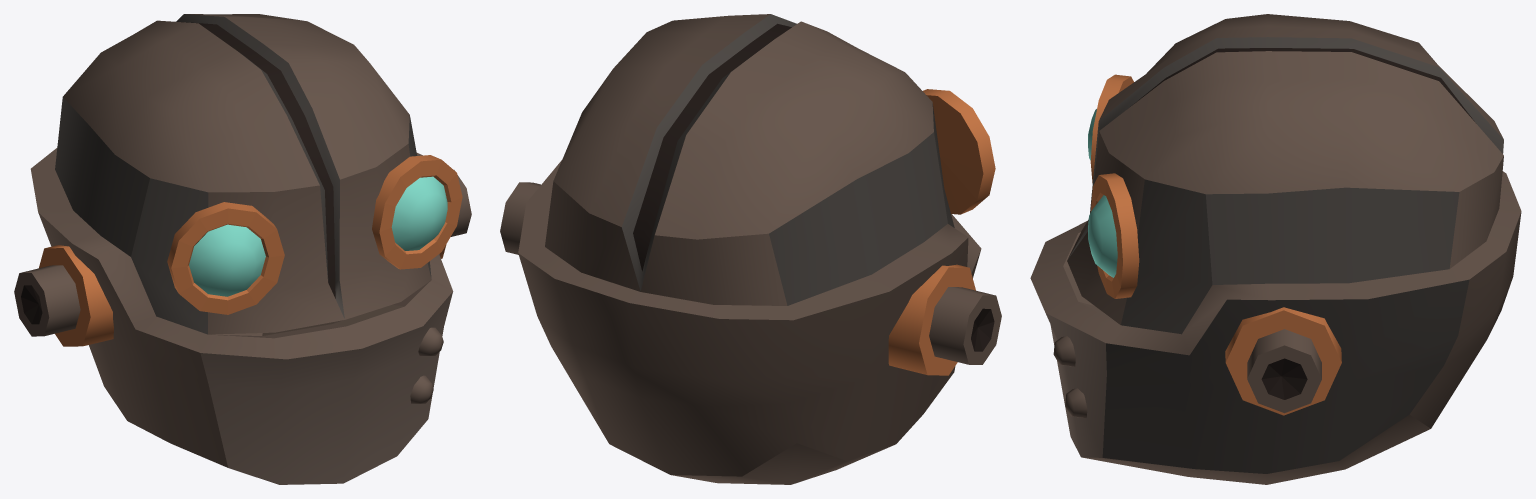
The model's file is CH_M_head_003.FBX.
3 views of the same model, side by side, from view 1: azimuth 30°, elevation 25°; view 2: azimuth 150°, elevation 25°; view 3: azimuth 270°, elevation 25° (orthographic). The views are drawn at different scales.
Visible parts, largest first — view 1: CH_M_head_003; view 2: CH_M_head_003; view 3: CH_M_head_003.
Boxes of the visible parts, x1=… form: CH_M_head_003: x1=14, y1=14, x2=471, y2=484; CH_M_head_003: x1=500, y1=14, x2=1001, y2=484; CH_M_head_003: x1=1030, y1=14, x2=1521, y2=484.
Size of the model in its own units: 86.61 by 76.8 by 81.71.
1 material, 1 textured.
